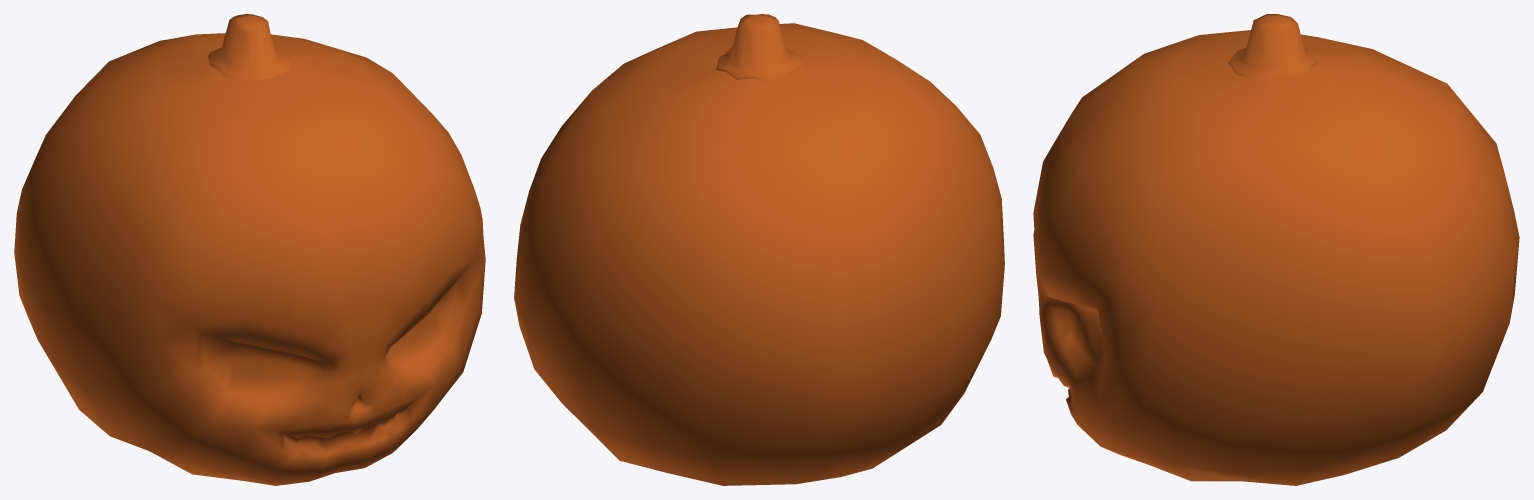
File: HELMET_Pumpkin.FBX
The picture shows the model from 3 angles, left to right: view 1: azimuth 30°, elevation 25°; view 2: azimuth 150°, elevation 25°; view 3: azimuth 270°, elevation 25°; orthographic projection. The views are drawn at different scales.
Parts seen in each view (by area): view 1: HELMET_03; view 2: HELMET_03; view 3: HELMET_03.
Part boxes in pixels (x1,y1,x2,y2): HELMET_03: [14, 14, 485, 485]; HELMET_03: [514, 14, 1004, 485]; HELMET_03: [1033, 14, 1519, 485].
Size of the model in its own units: 57.56 by 57.97 by 60.53.
